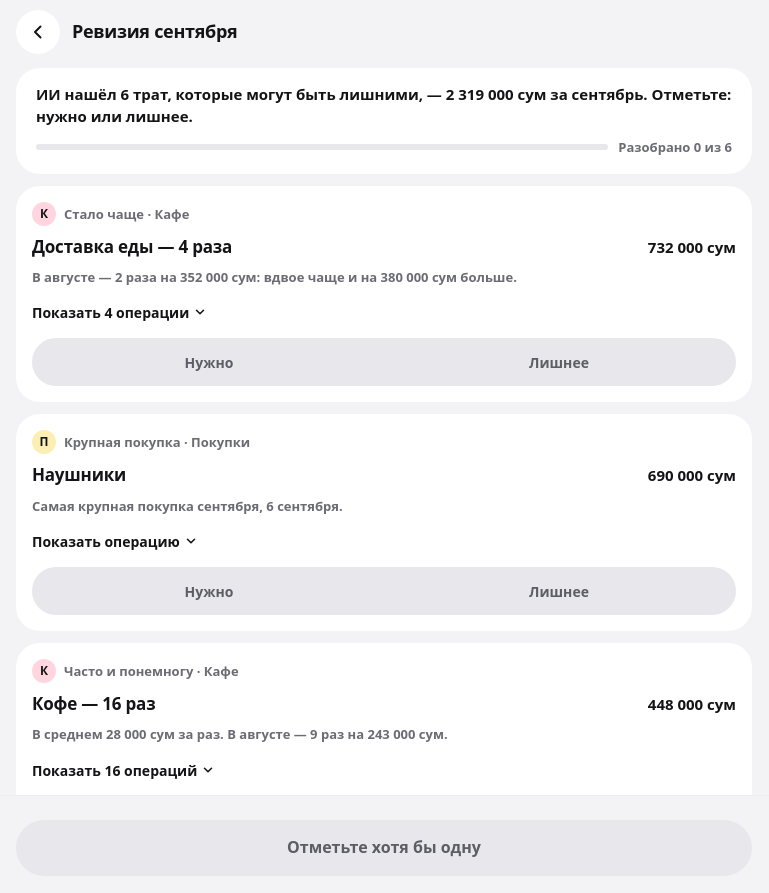
«Ревизия · начало» › «Показать 16 операций» opens the newest five and «Показать все 16»
Click the button "Показать 16 операций".
click(124, 770)  # box [22,748,225,792]
(page scrolled)
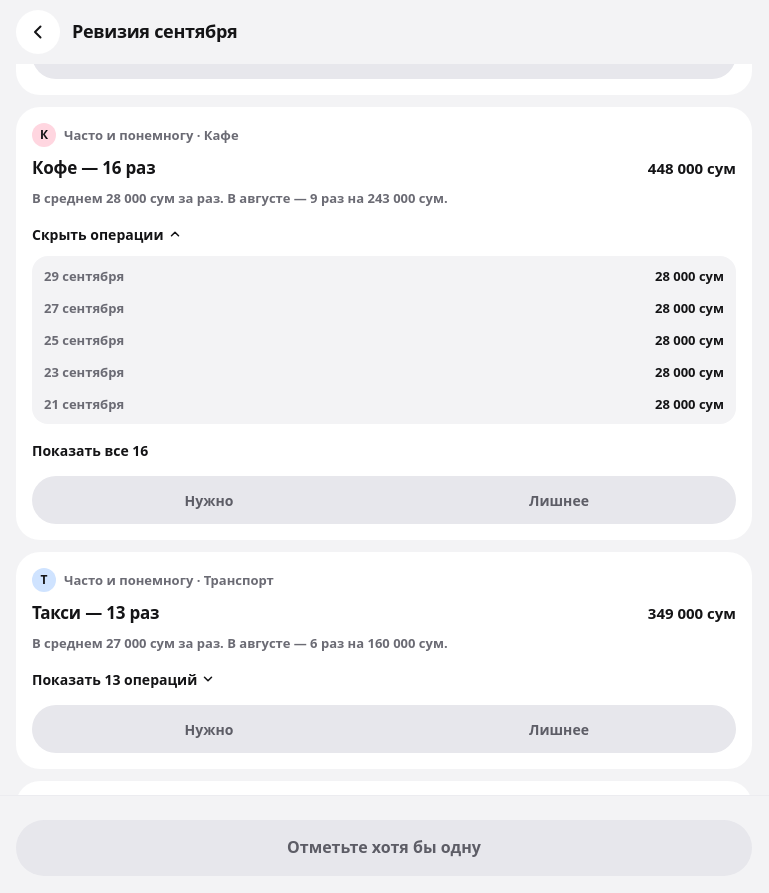
Now the number of list items is 5, box [44,267,724,285]; [44,299,724,317]; [44,331,724,349]; [44,363,724,381]; [44,395,724,413]
Now the button "Скрыть операции" is expanded, box [22,212,192,256]
Click the button "Показать все 16".
click(90, 450)  # box [22,428,158,472]
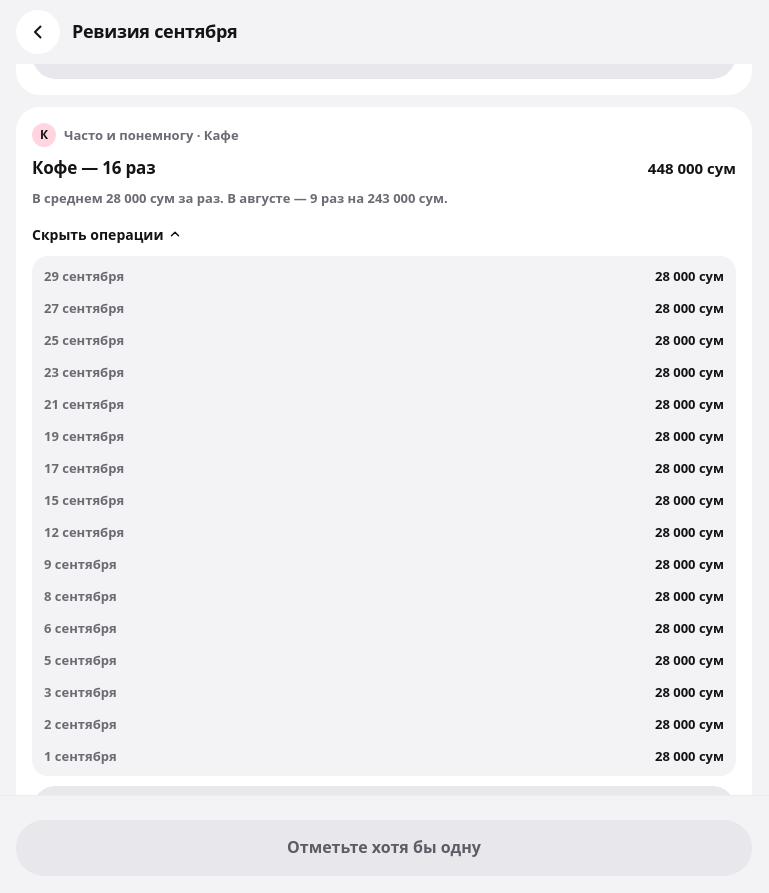
Now the number of list items is 16
